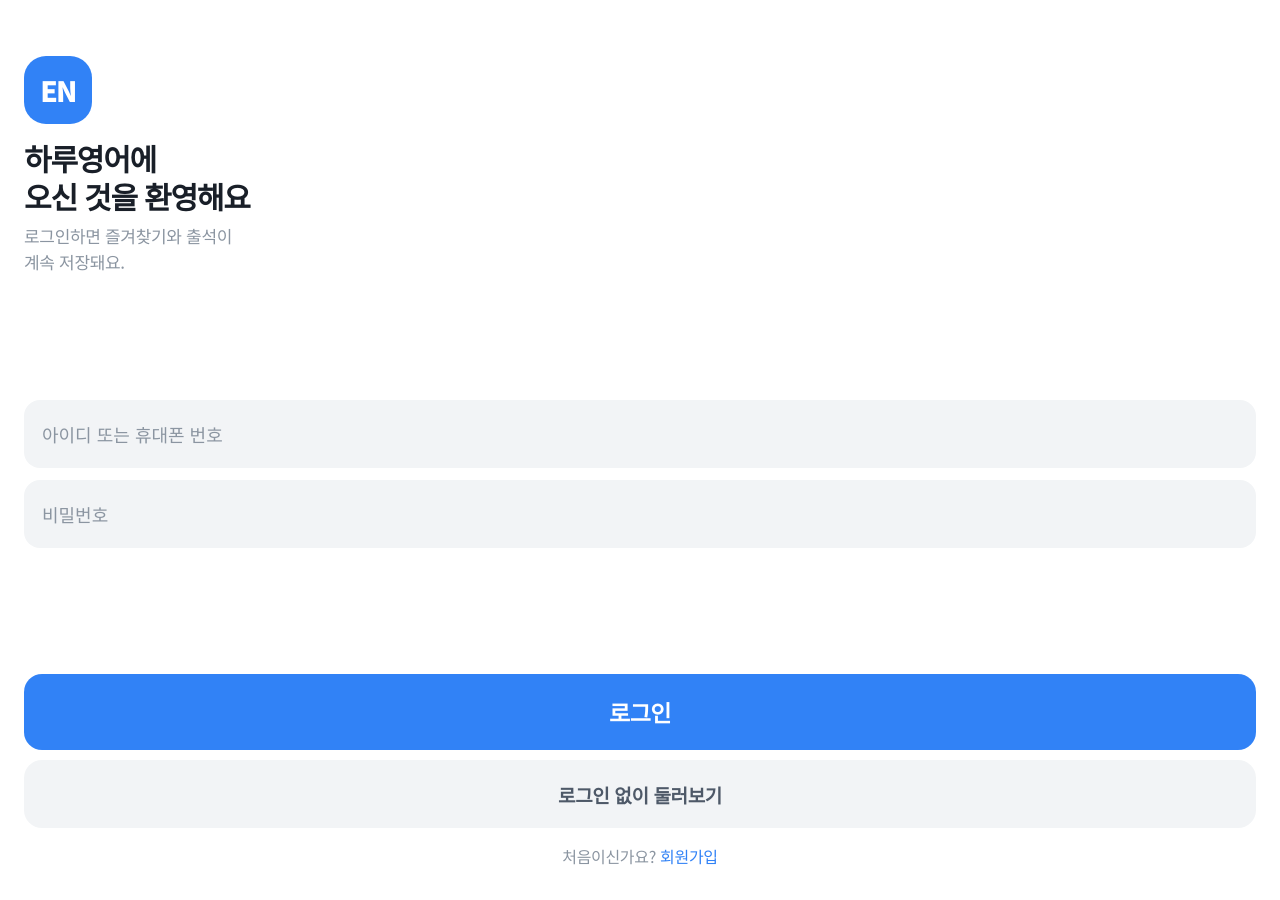
Test case: 로그인 입력 검증 › 빈 입력이면 서버에 다녀오지 않고 바로 알려준다
The width and height of the screenshot is (1280, 900).
Click the button "로그인" at (640, 712), box [24, 674, 1256, 750]
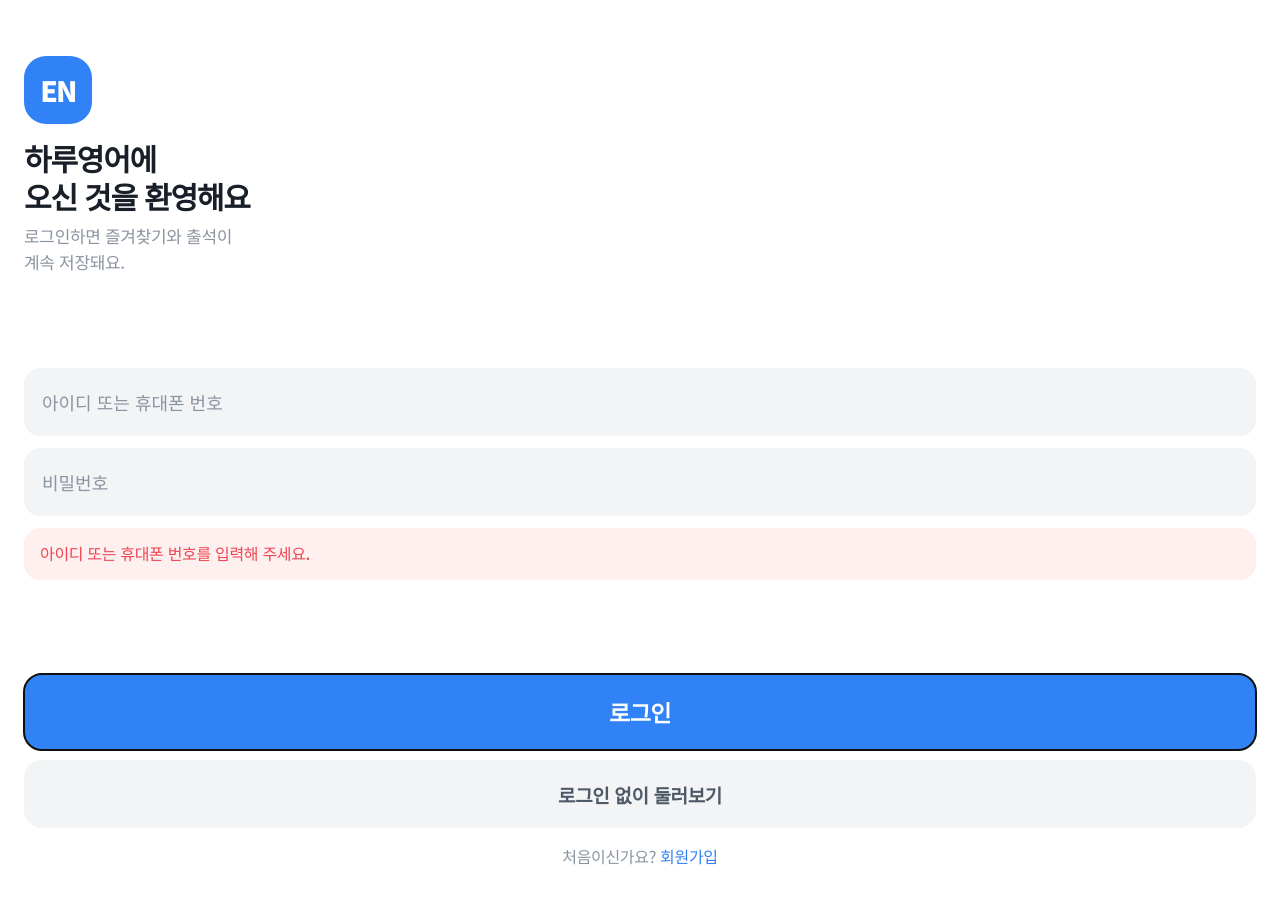
Now the message reads "아이디 또는 휴대폰 번호를 입력해 주세요.", box [40, 541, 310, 565]
